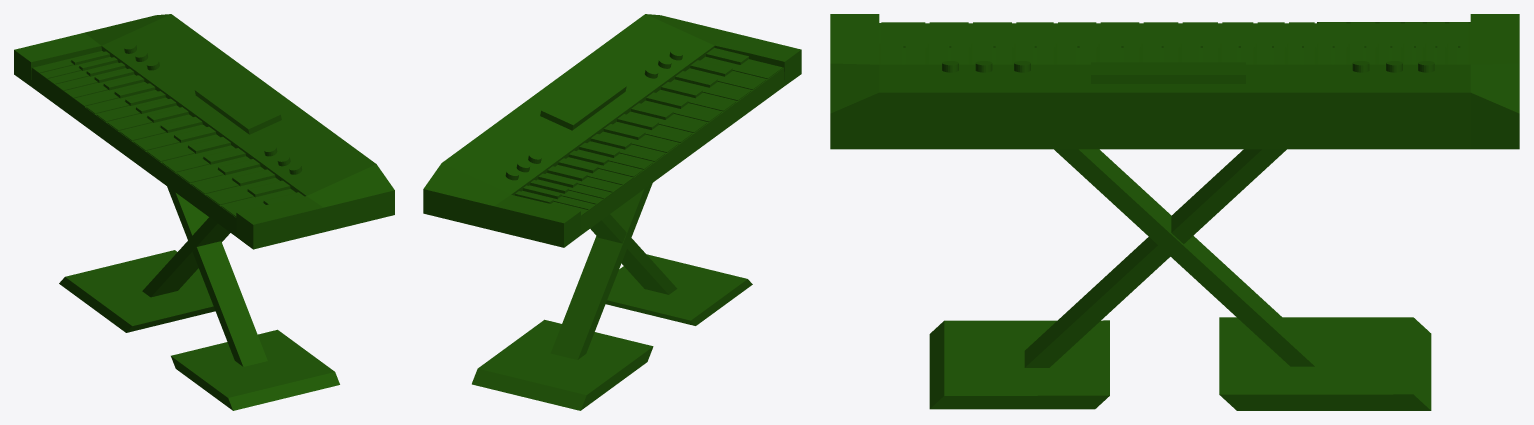
File: keyboardpianoInteractable.fbx
The picture shows the model from 3 angles, left to right: view 1: azimuth 30°, elevation 25°; view 2: azimuth 150°, elevation 25°; view 3: azimuth 270°, elevation 25°; orthographic projection. The views are drawn at different scales.
Parts seen in each view (by area): view 1: Cube; view 2: Cube; view 3: Cube.
Part boxes in pixels (x1,y1,x2,y2): Cube: (14, 14, 394, 410); Cube: (423, 14, 801, 410); Cube: (830, 14, 1519, 410).
Bounding box in the file's own units: 480 × 745 × 1403.
